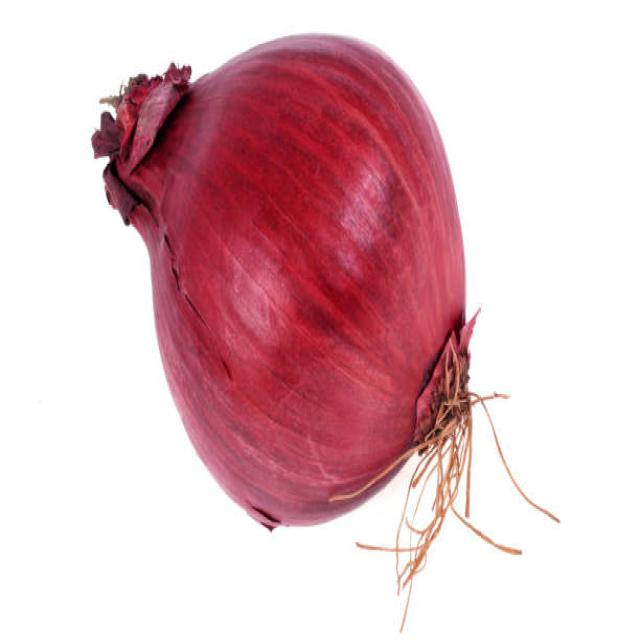onion: (85, 21, 474, 560)
